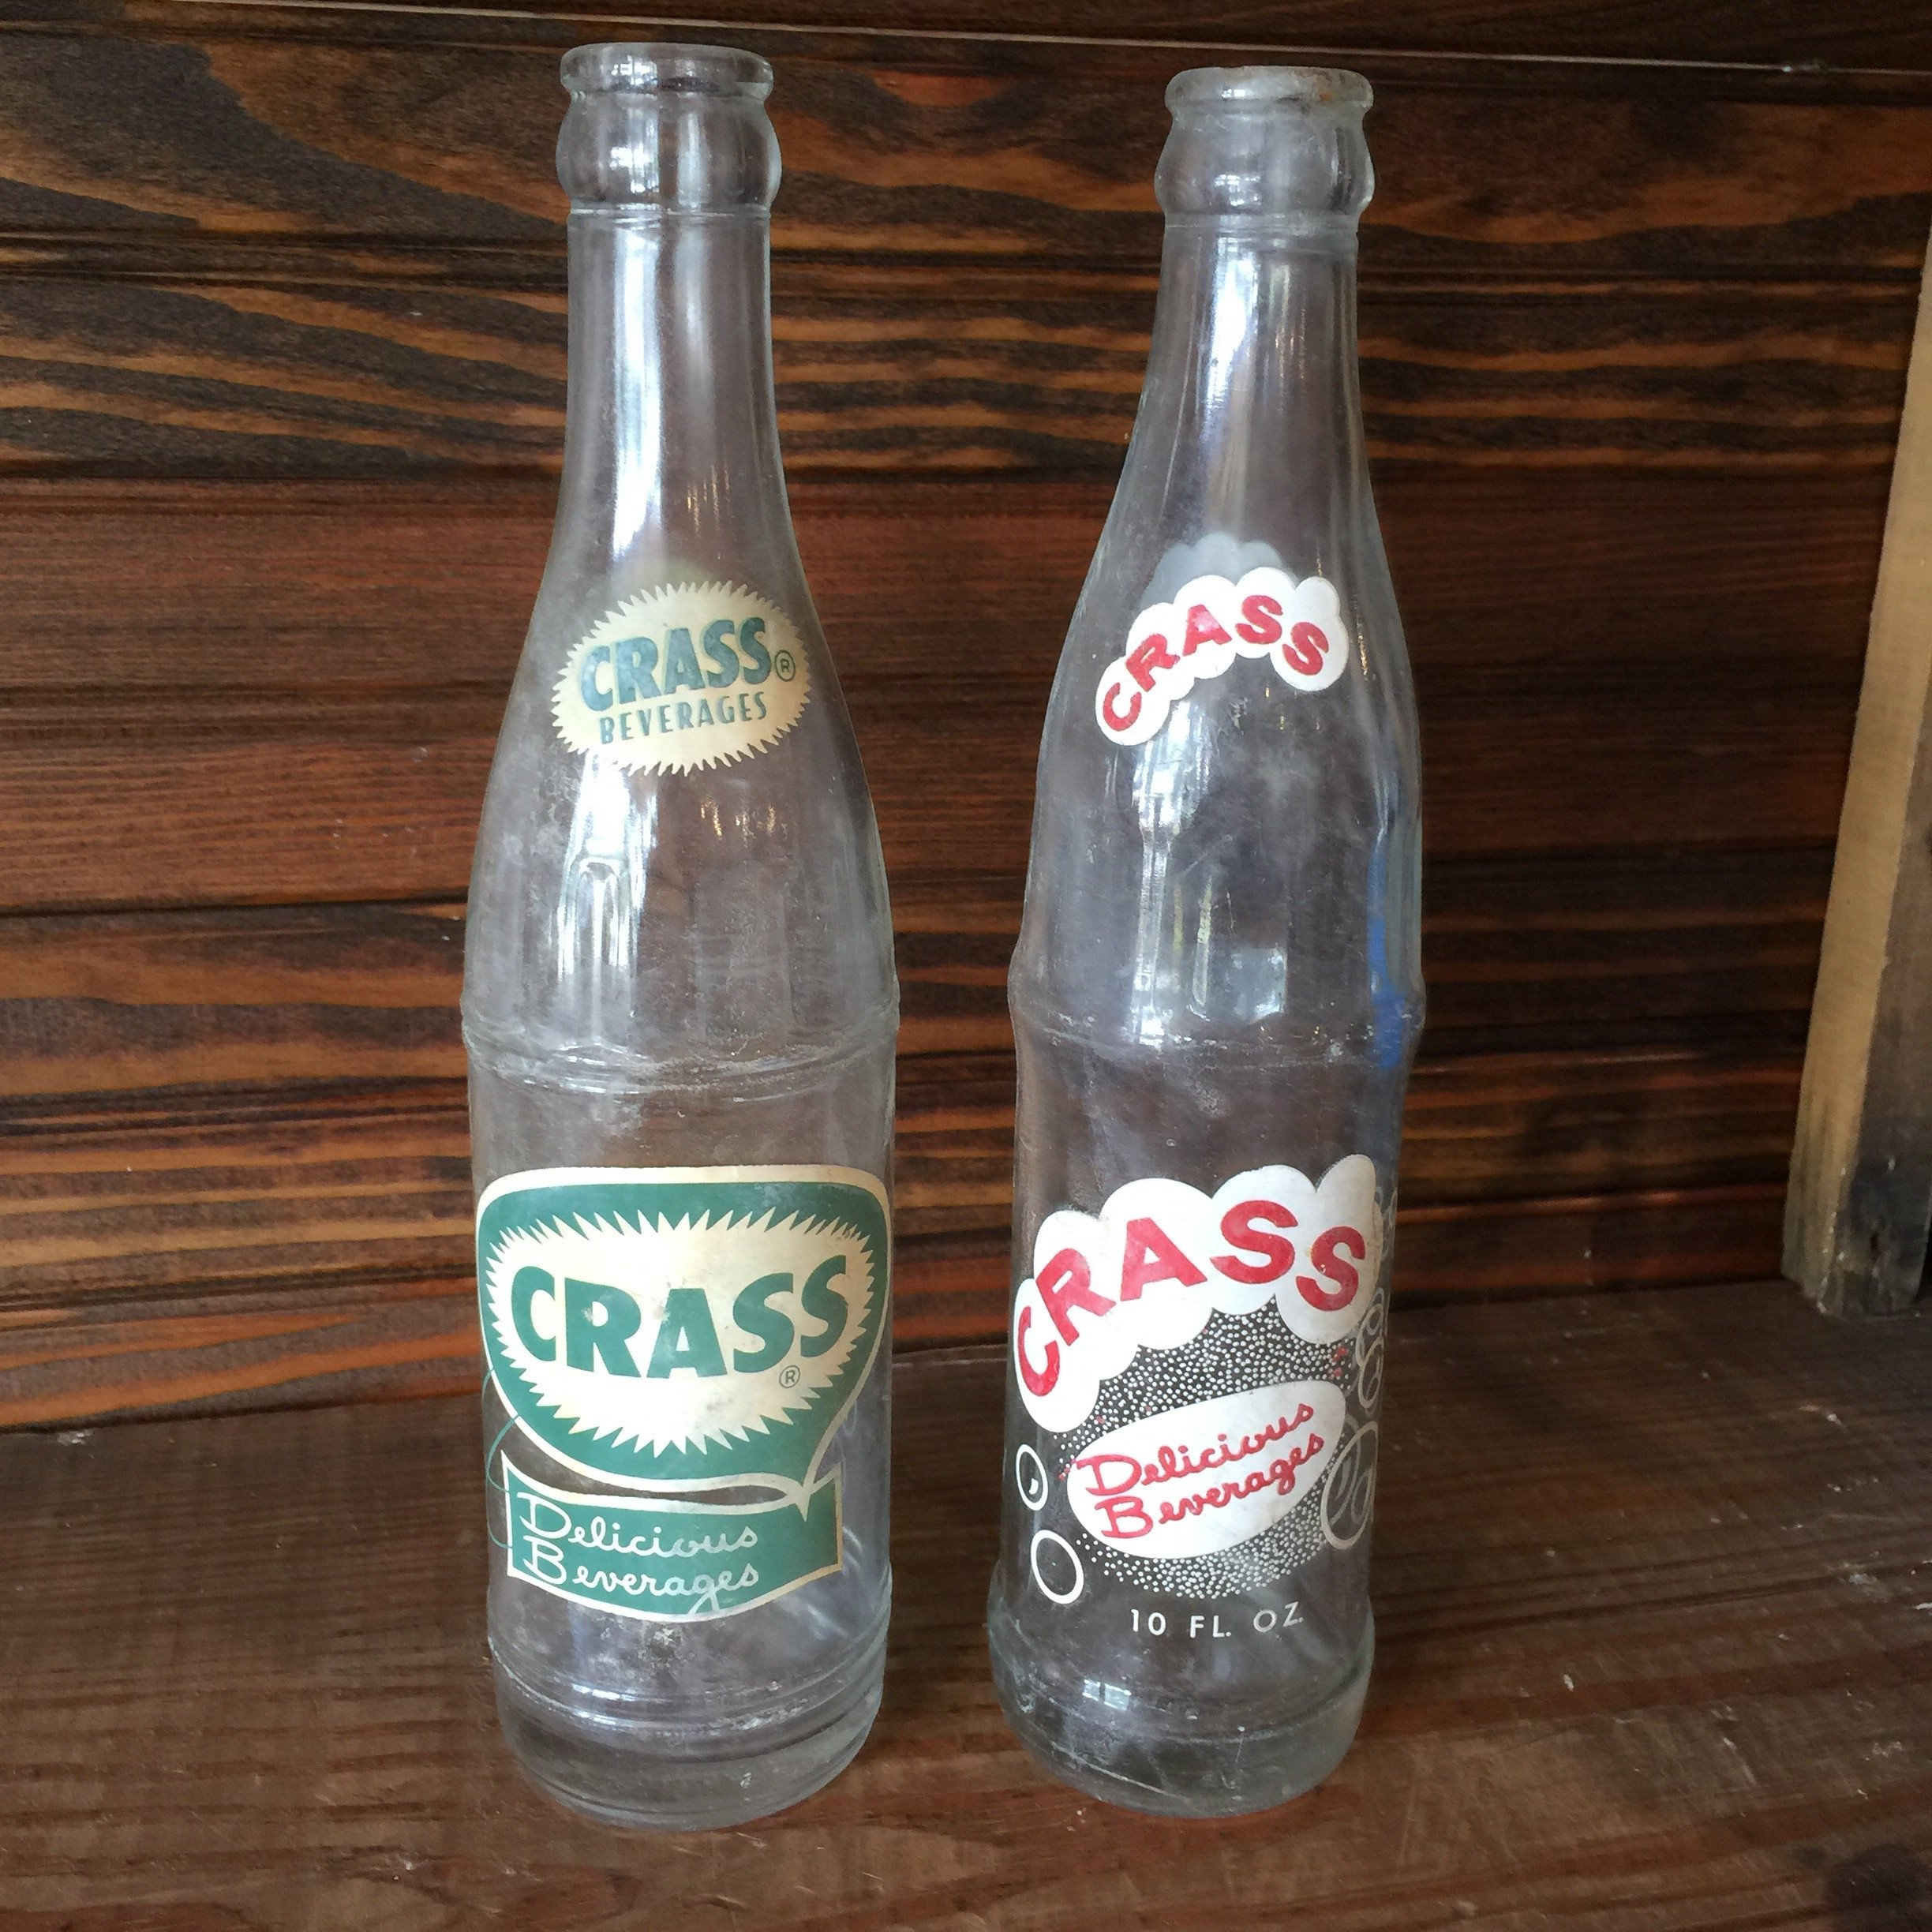Rec_Glass: (455, 41, 911, 1858), (993, 35, 1417, 1836)
